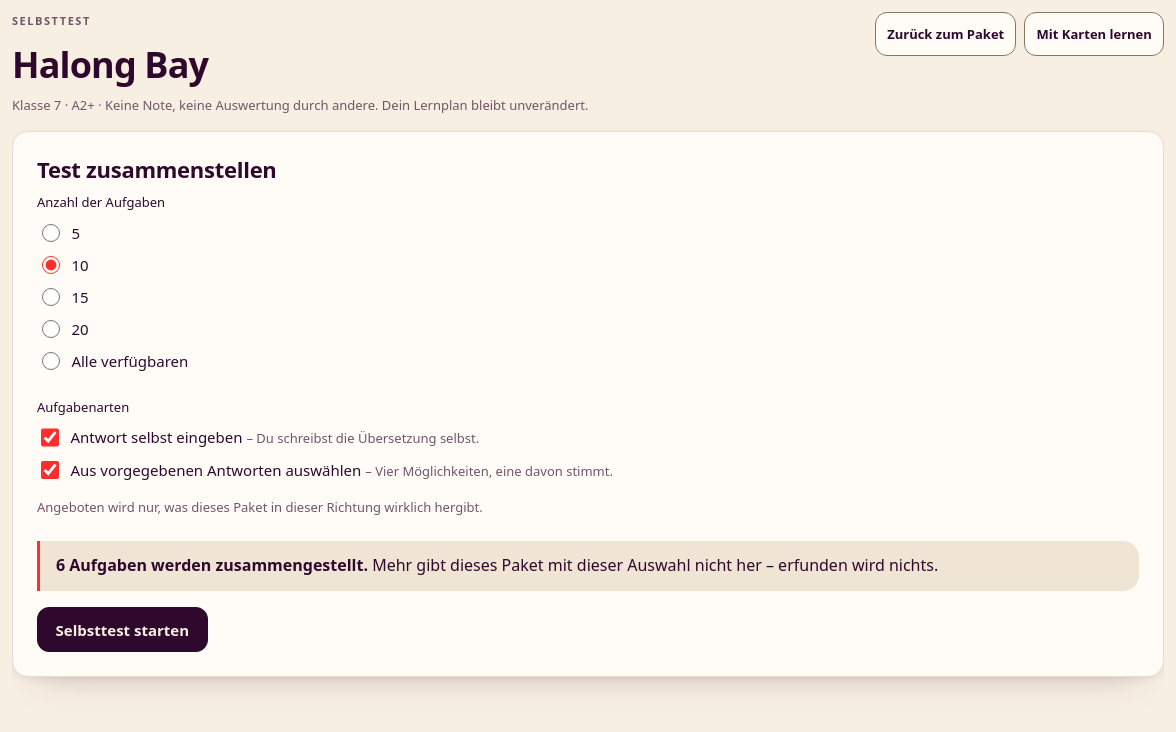
Test: Selbsttest – Bearbeiten › lässt den Test nur nach Rückfrage vorzeitig beenden
Click the button "Selbsttest starten": (122, 630) [37, 607, 208, 652]
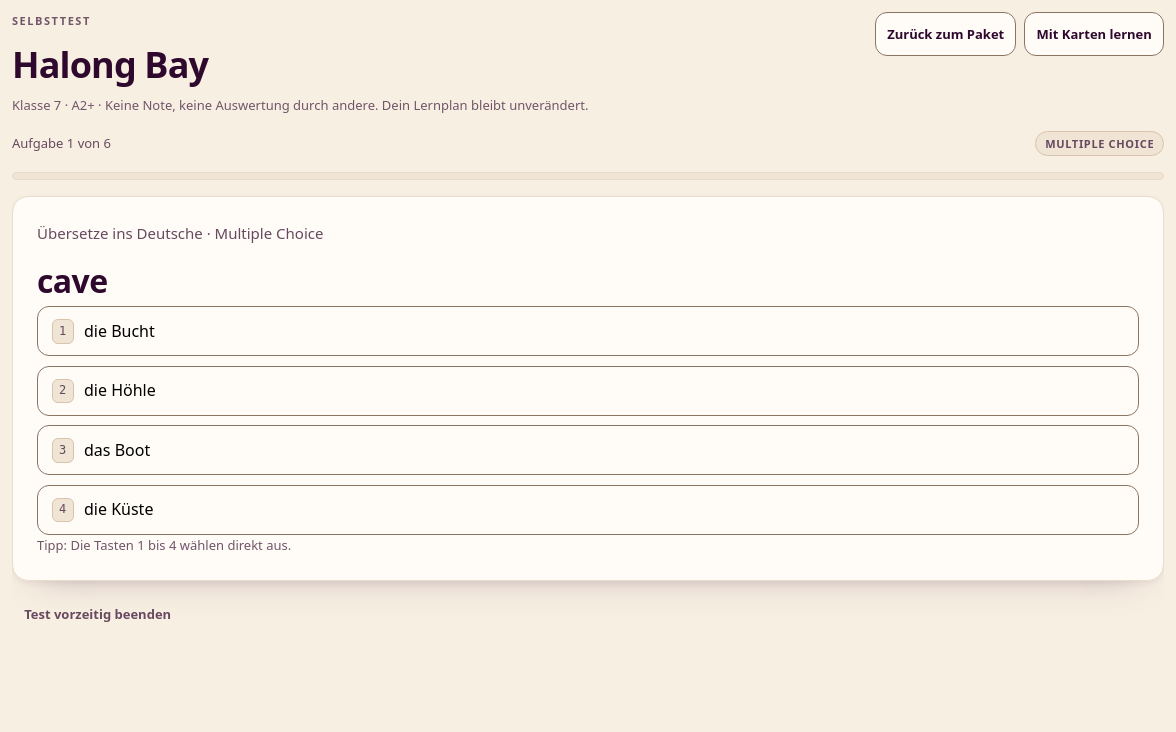
Click the button "Test vorzeitig beenden": (98, 615) [12, 597, 183, 633]
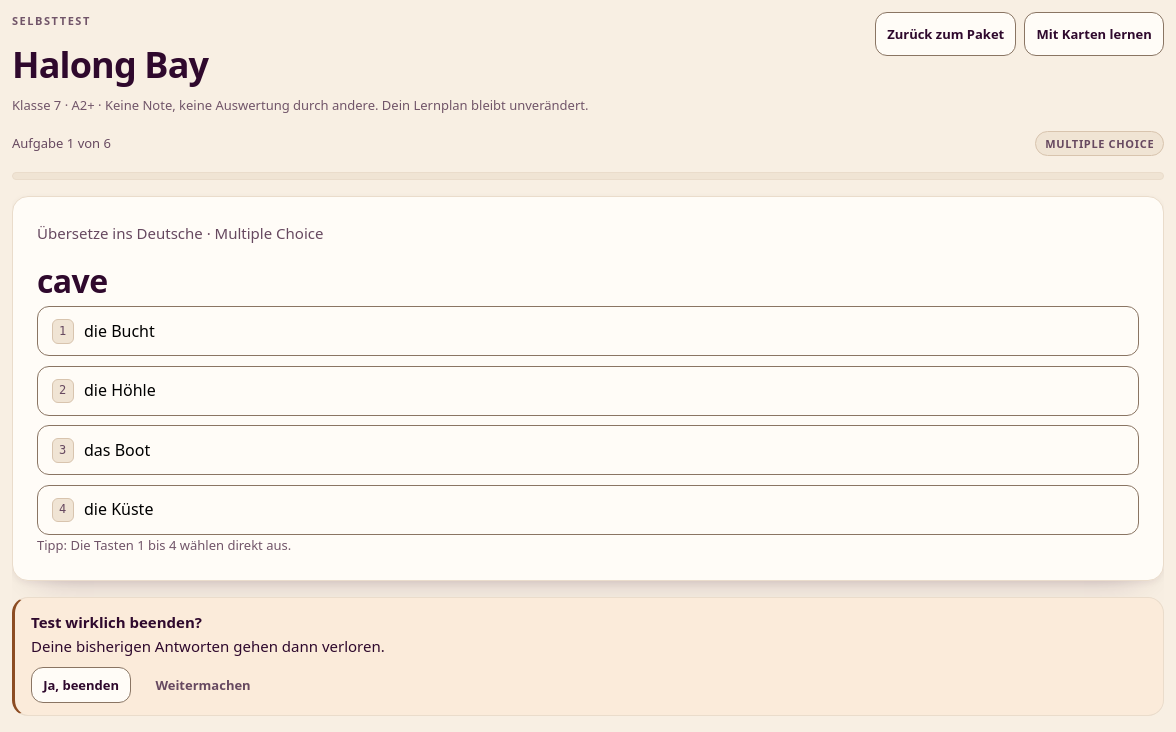
Result: the text "Test wirklich beenden?" is shown at [31, 612, 202, 632]
Click the button "Weitermachen": (203, 685) [143, 667, 263, 703]
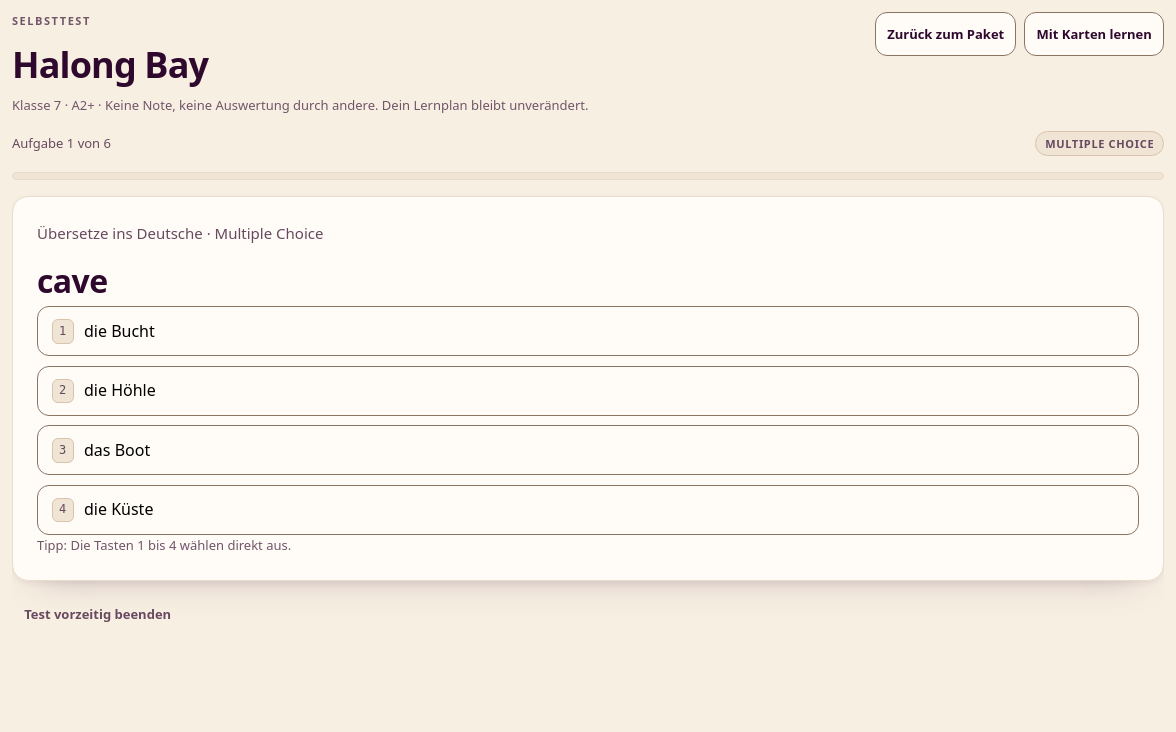
Result: the text "Test wirklich beenden?" is gone
Click the button "Test vorzeitig beenden": (98, 615) [12, 597, 183, 633]
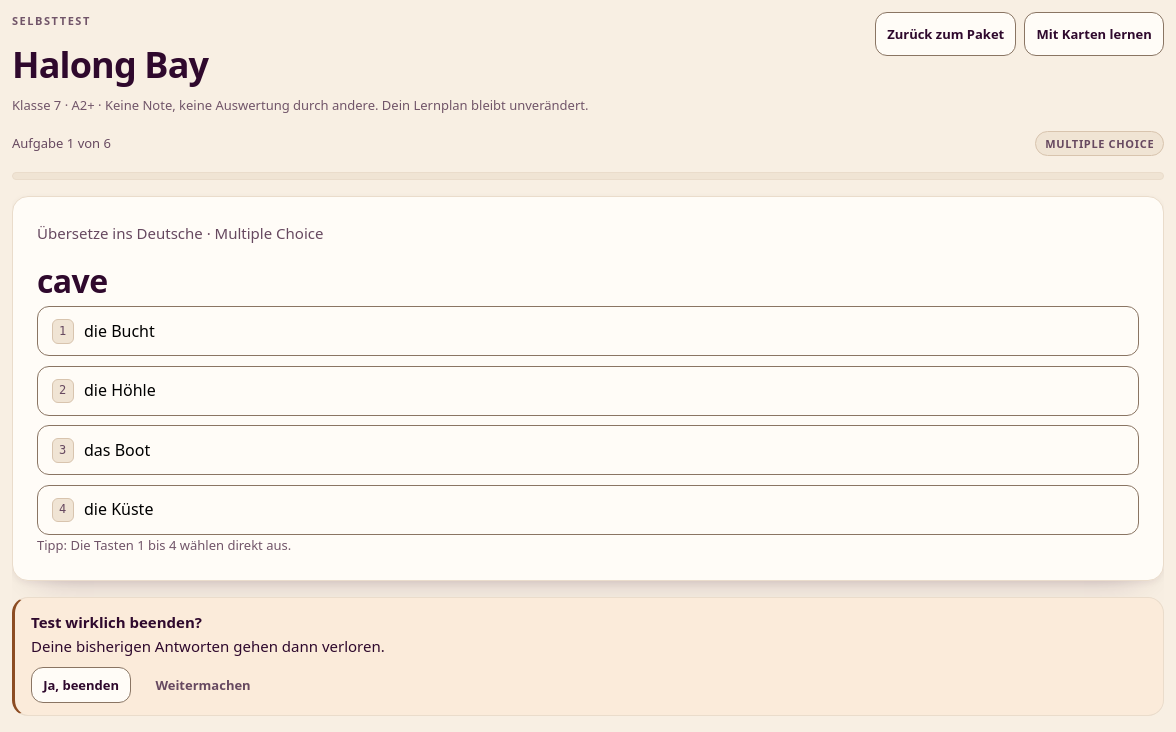
Click the button "Ja, beenden": (81, 685) [31, 667, 131, 703]
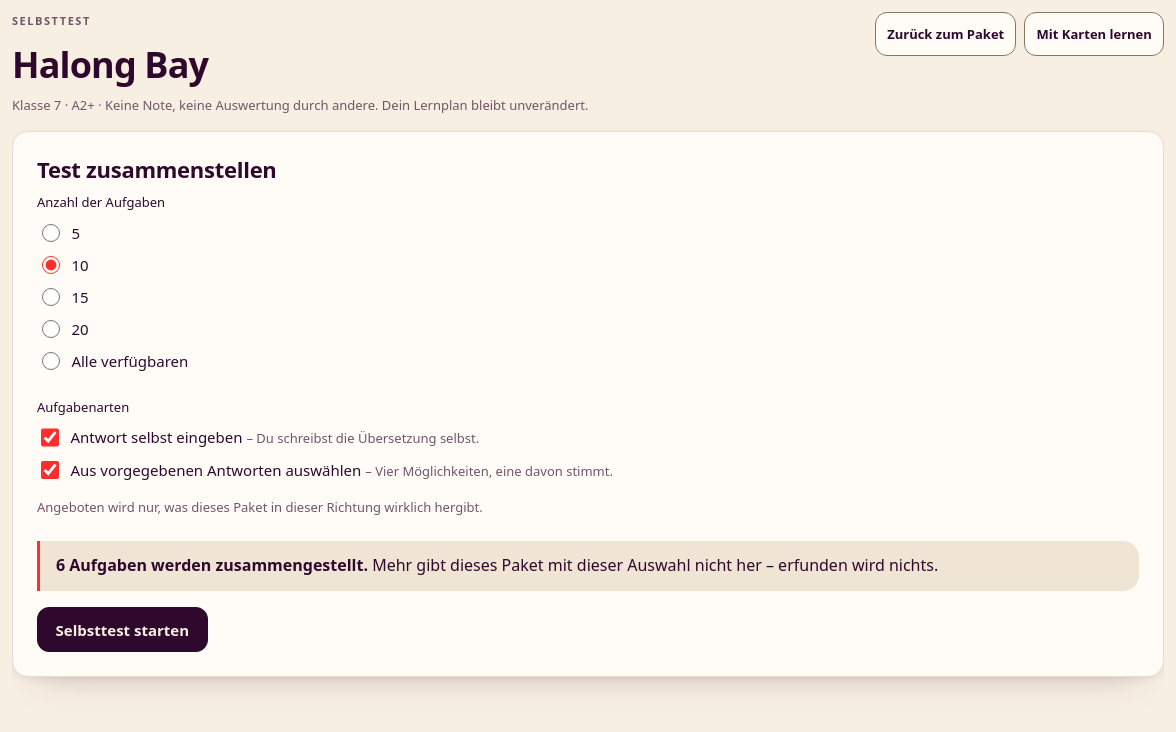
Result: the heading "Test zusammenstellen" is shown at [37, 154, 277, 184]
